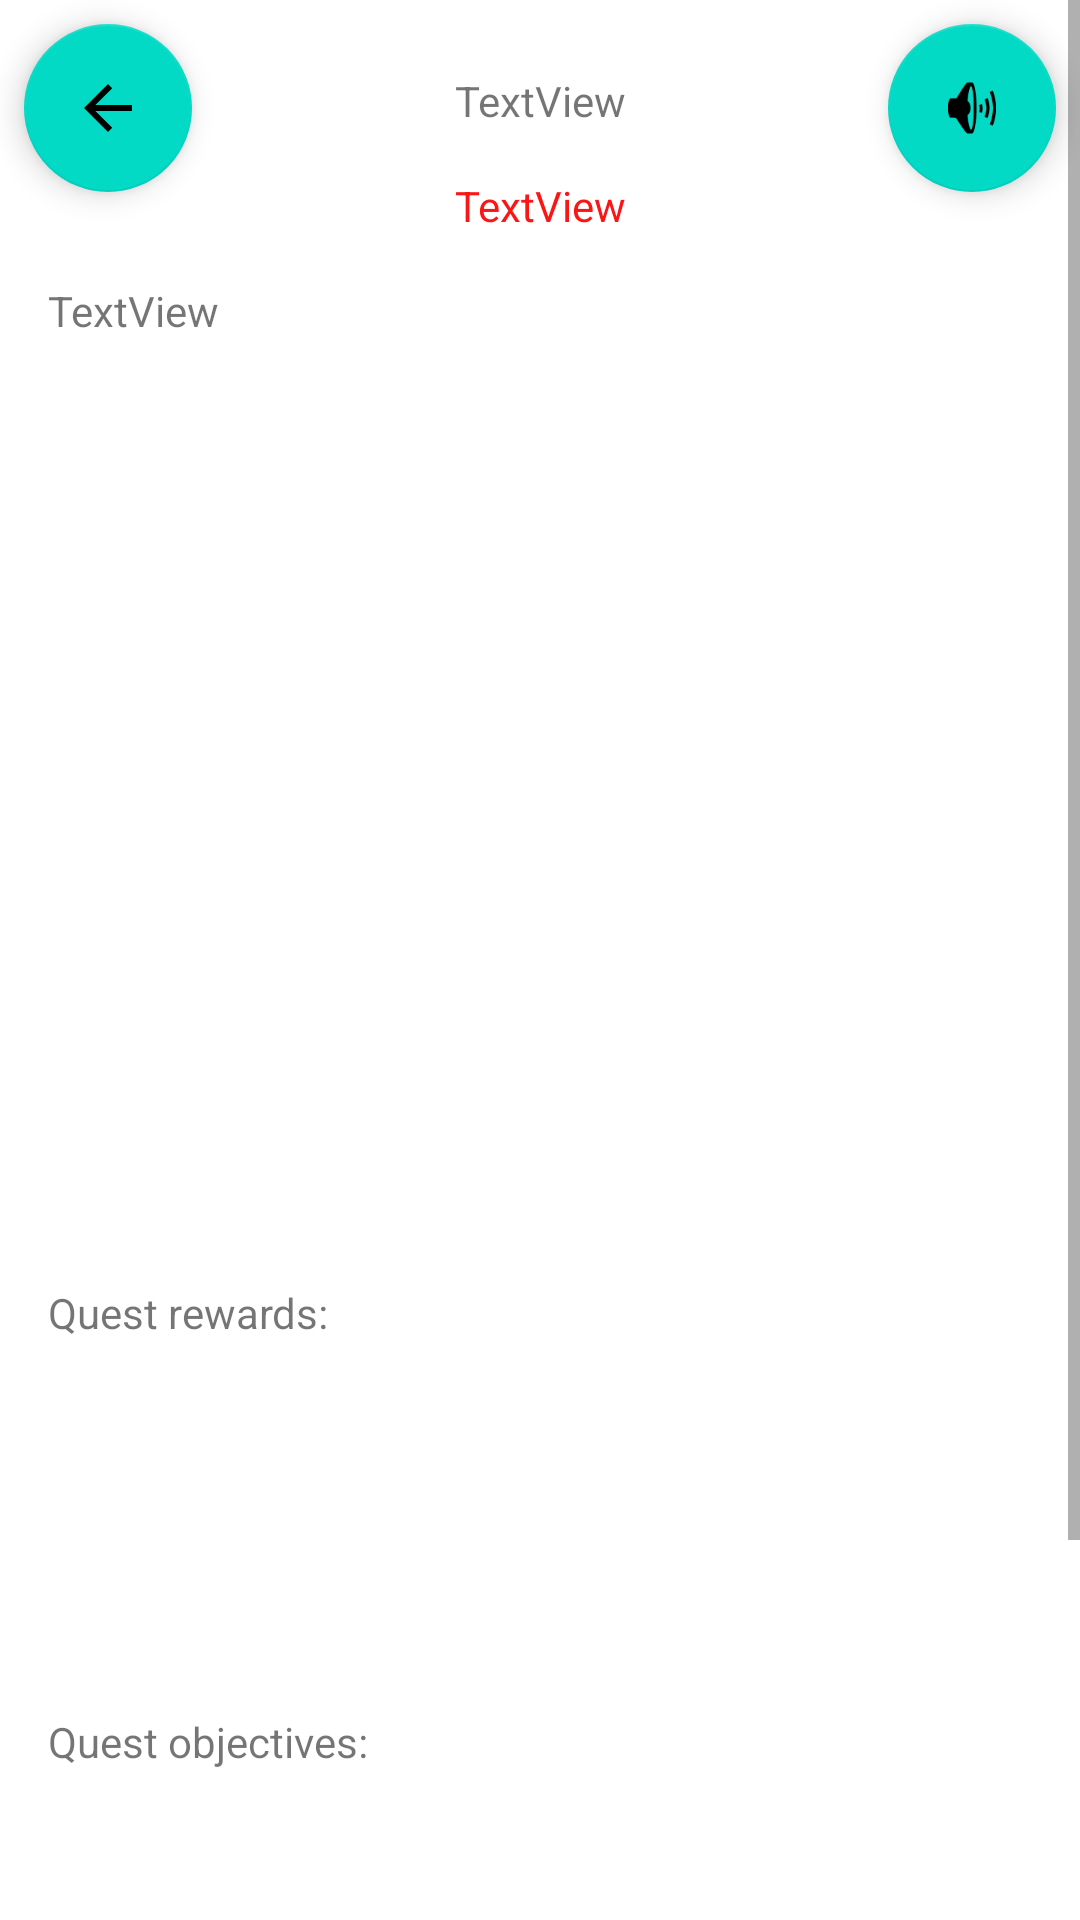

Screen size 1080 x 1920. Icon name, then its box in pixels as (x1, y1, x2, y2):
lock silent mode off: (888, 24, 1056, 192)
